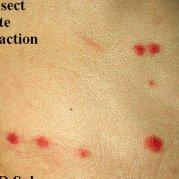Fleas: (133, 43, 160, 55), (144, 135, 163, 152), (33, 133, 50, 150), (6, 132, 18, 144), (78, 149, 90, 157)
